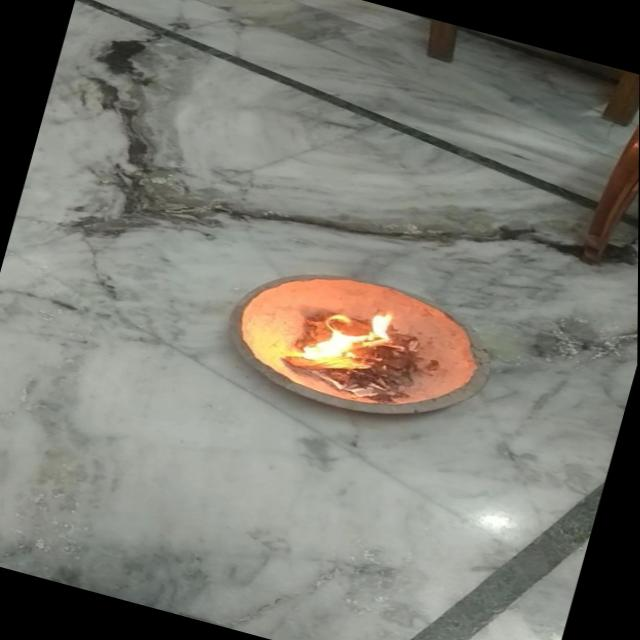fire: (286, 289, 415, 393)
